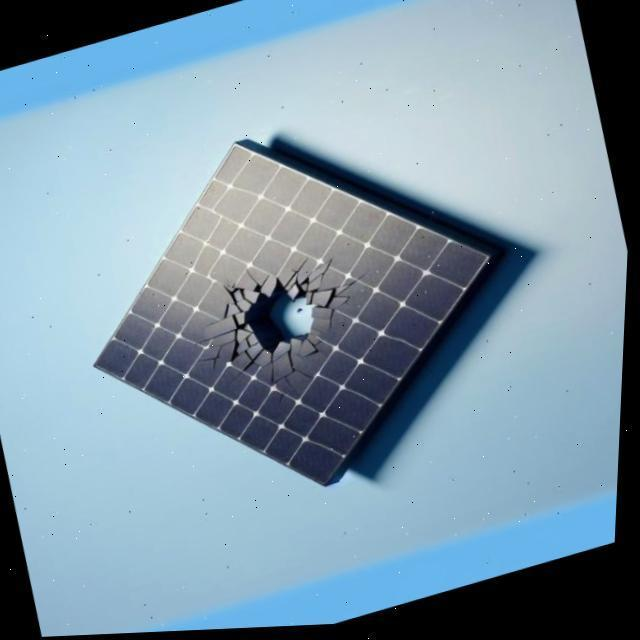Anomaly Solar Panel: (95, 125, 489, 500)
Structural Damage: (181, 219, 367, 413)
